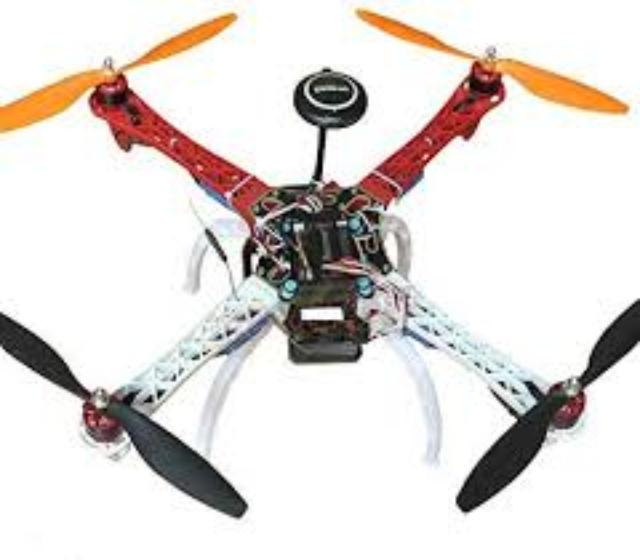drone: (0, 18, 640, 518)
